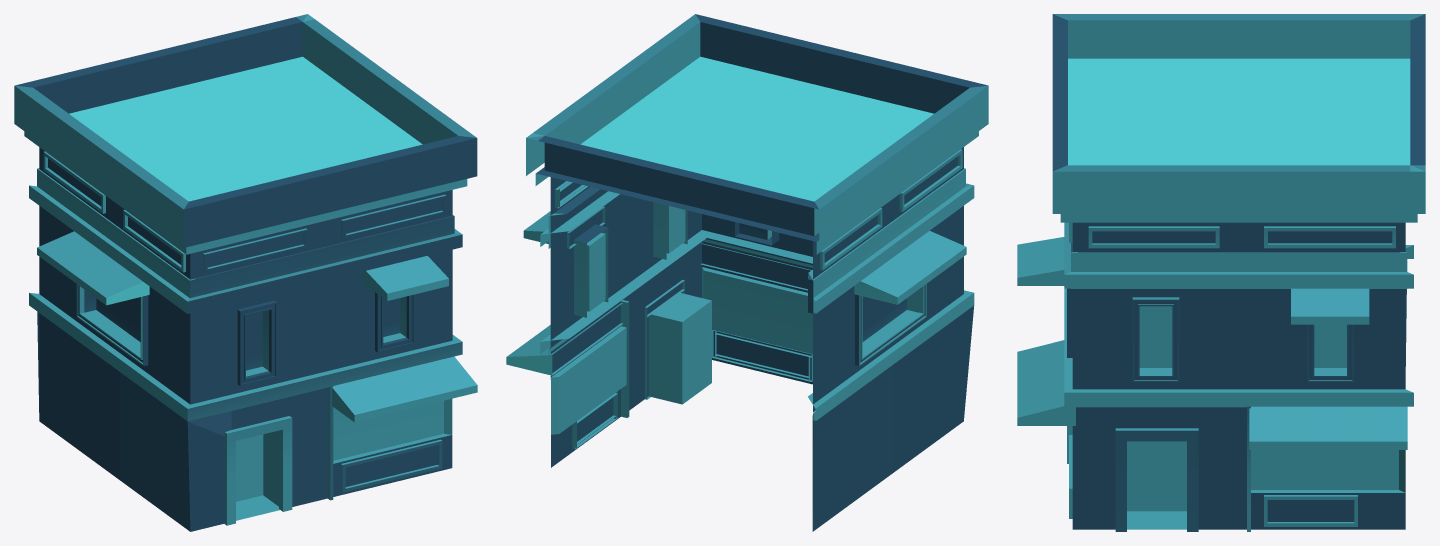
Rendered from Restaurant_LV2.FBX.
3 views of the same model, side by side, from view 1: azimuth 30°, elevation 25°; view 2: azimuth 150°, elevation 25°; view 3: azimuth 270°, elevation 25° (orthographic). The views are drawn at different scales.
Parts seen in each view (by area): view 1: Restaurant; view 2: Restaurant; view 3: Restaurant.
Boxes of the visible parts, x1=… form: Restaurant: x1=14, y1=14, x2=477, y2=531; Restaurant: x1=506, y1=14, x2=988, y2=531; Restaurant: x1=1017, y1=14, x2=1425, y2=531.
Size of the model in its own units: 15.6 by 14.22 by 14.35.
